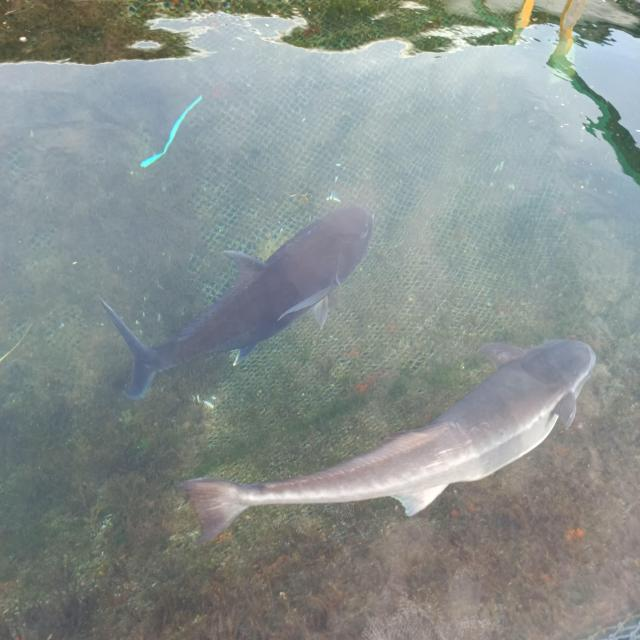ikan: (178, 336, 596, 546), (98, 201, 374, 401)
